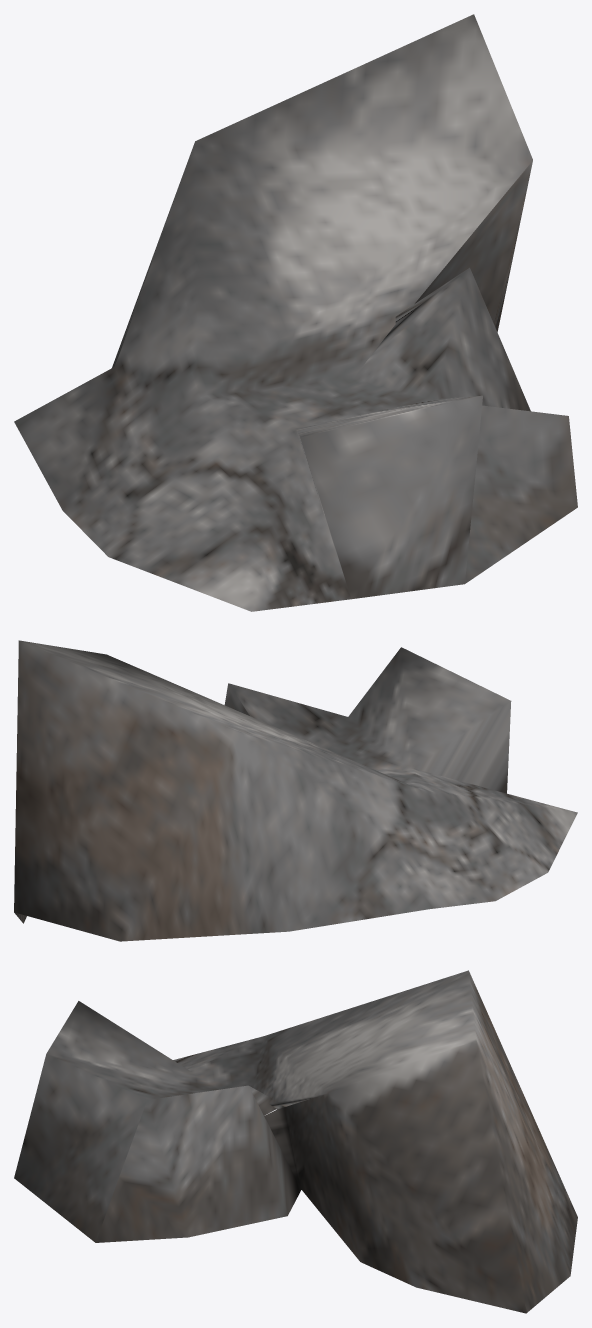
Rendered from forest_rock_8.glb.
The picture shows the model from 3 angles, top to bottom: view 1: azimuth 30°, elevation 25°; view 2: azimuth 150°, elevation 25°; view 3: azimuth 270°, elevation 25°; orthographic projection. The views are drawn at different scales.
Visible parts, largest first — view 1: Rocks.008_Rocks_0; view 2: Rocks.008_Rocks_0; view 3: Rocks.008_Rocks_0.
Boxes of the visible parts, <box> form: Rocks.008_Rocks_0: <box>14,14,577,611</box>; Rocks.008_Rocks_0: <box>14,640,577,941</box>; Rocks.008_Rocks_0: <box>14,970,577,1313</box>.
Size of the model in its own units: 1.28 by 0.7873 by 1.4.
1 material, 1 textured.
